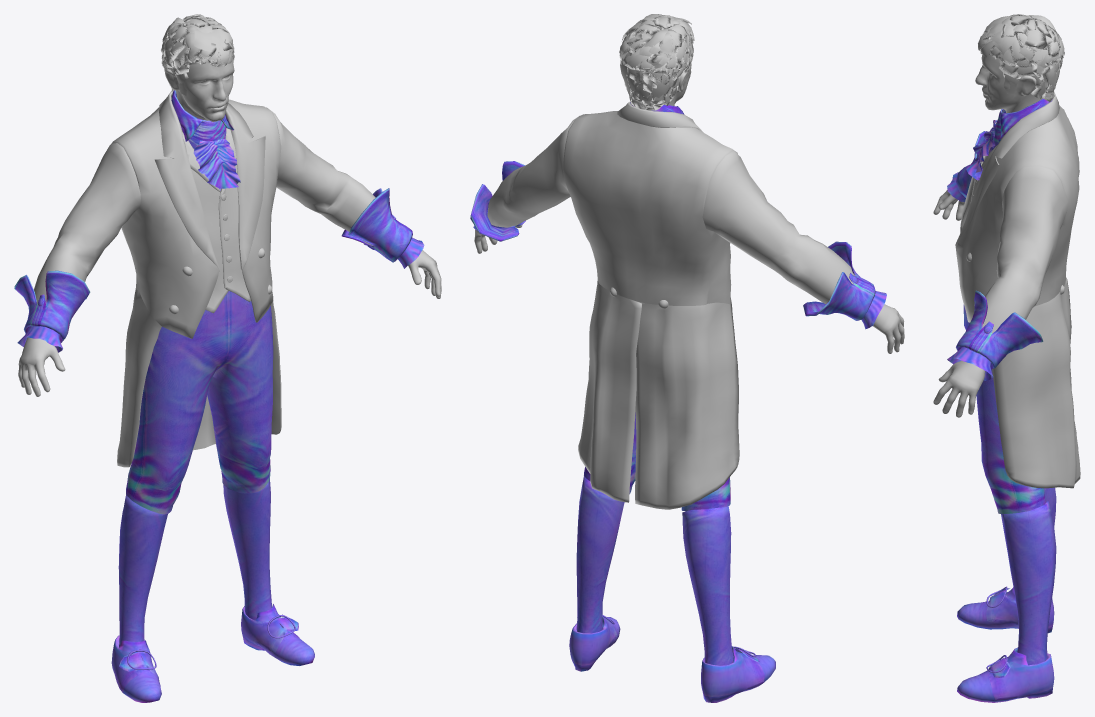
File: hzhs.FBX
3 renders of one model, left to right at view 1: azimuth 30°, elevation 25°; view 2: azimuth 150°, elevation 25°; view 3: azimuth 270°, elevation 25°, orthographic. The views are drawn at different scales.
Visible parts, largest first — view 1: hzhs; view 2: hzhs; view 3: hzhs.
Boxes of the visible parts, bbox=[...] form: hzhs: bbox=[14, 14, 441, 702]; hzhs: bbox=[470, 14, 904, 702]; hzhs: bbox=[933, 14, 1080, 702].
Size of the model in its own units: 50.6 by 75.3 by 15.59.
